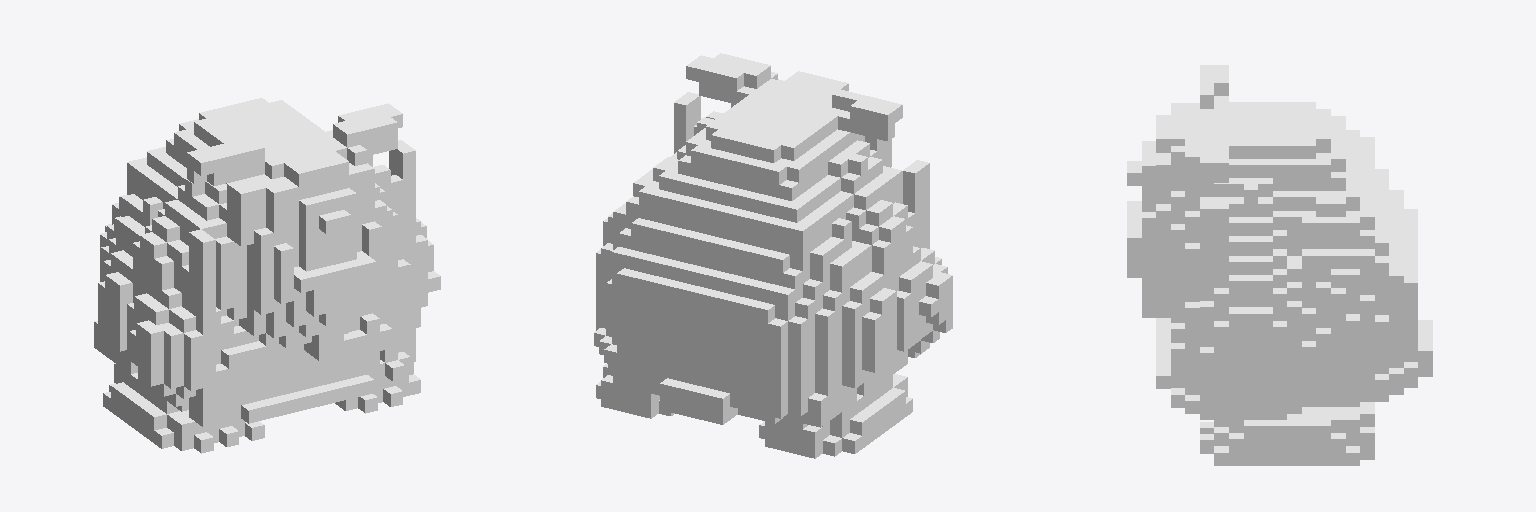
Rendered from MoblinGREENtanding.vox.obj.
The picture shows the model from 3 angles: view 1: azimuth 30°, elevation 25°; view 2: azimuth 150°, elevation 25°; view 3: azimuth 270°, elevation 25°; orthographic projection.
Visible parts, largest first — view 1: object 1; view 2: object 1; view 3: object 1.
Boxes of the visible parts, x1,y1,x2,y2 form: object 1: [94, 98, 440, 453]; object 1: [594, 53, 952, 458]; object 1: [1127, 65, 1432, 465].
Size of the model in its own units: 2.3 by 2.2 by 2.1.